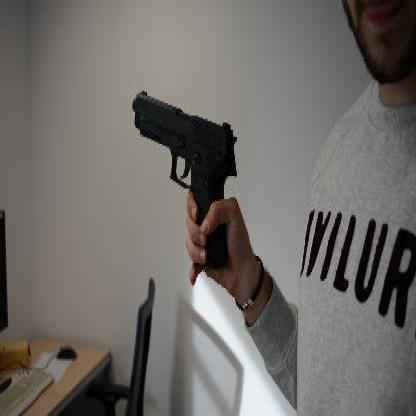pistol: (132, 89, 238, 270)
